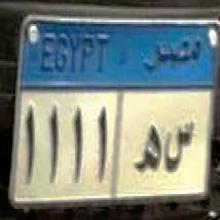1: (92, 106, 111, 182), (22, 106, 38, 186), (69, 105, 83, 184), (46, 107, 60, 182)
haa: (135, 120, 163, 176)
seen: (163, 117, 197, 175)
